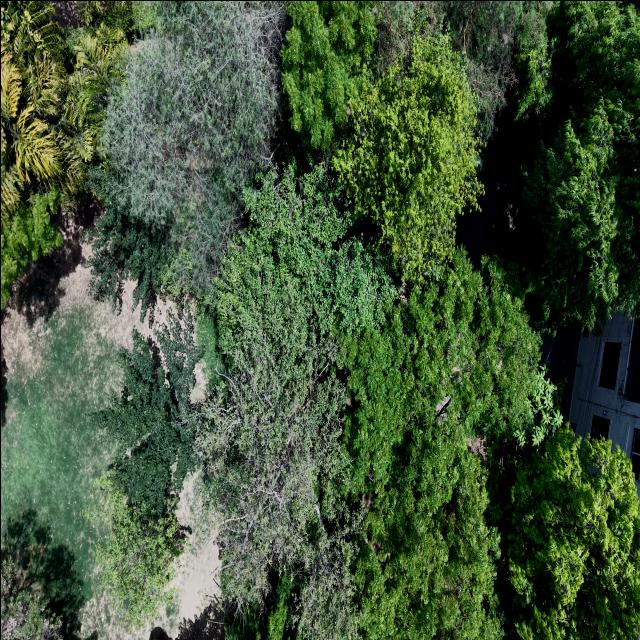DRY_AREA: (1, 218, 218, 639)
VEGETATION_TREE: (1, 1, 639, 639), (197, 167, 544, 638), (91, 4, 527, 305), (197, 166, 395, 639), (345, 251, 538, 639), (90, 1, 284, 305), (282, 6, 479, 268), (1, 279, 127, 639), (347, 250, 539, 478), (513, 1, 639, 328), (1, 1, 135, 305), (1, 1, 124, 307), (332, 36, 482, 283), (90, 314, 197, 624), (490, 428, 639, 639), (356, 430, 502, 639), (373, 1, 550, 141), (1, 1, 78, 307), (413, 1, 541, 140), (96, 330, 191, 516), (1, 1, 78, 217), (282, 1, 376, 152), (427, 1, 527, 139), (95, 475, 184, 625), (1, 509, 83, 639), (89, 198, 171, 317), (62, 23, 127, 163), (1, 190, 62, 307), (511, 1, 555, 118), (1, 561, 61, 639), (516, 366, 565, 447), (371, 1, 422, 76), (75, 1, 157, 40), (132, 1, 157, 32)
WATERBODY: (1, 263, 151, 598)
